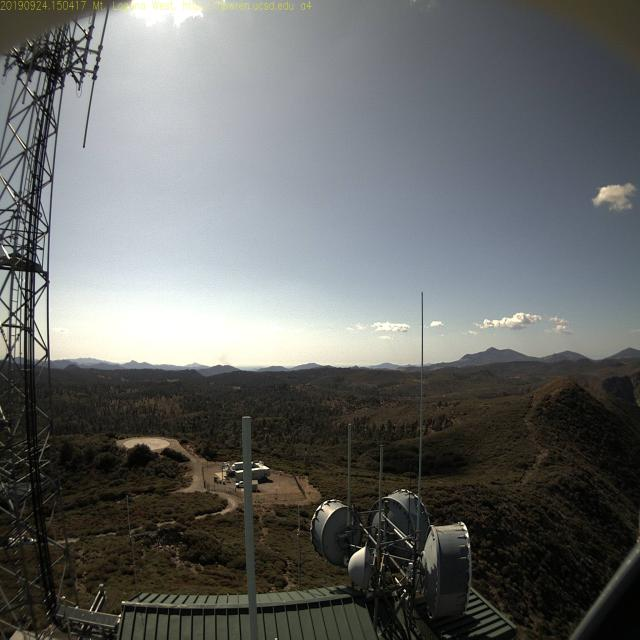smoke: (217, 350, 233, 372)
